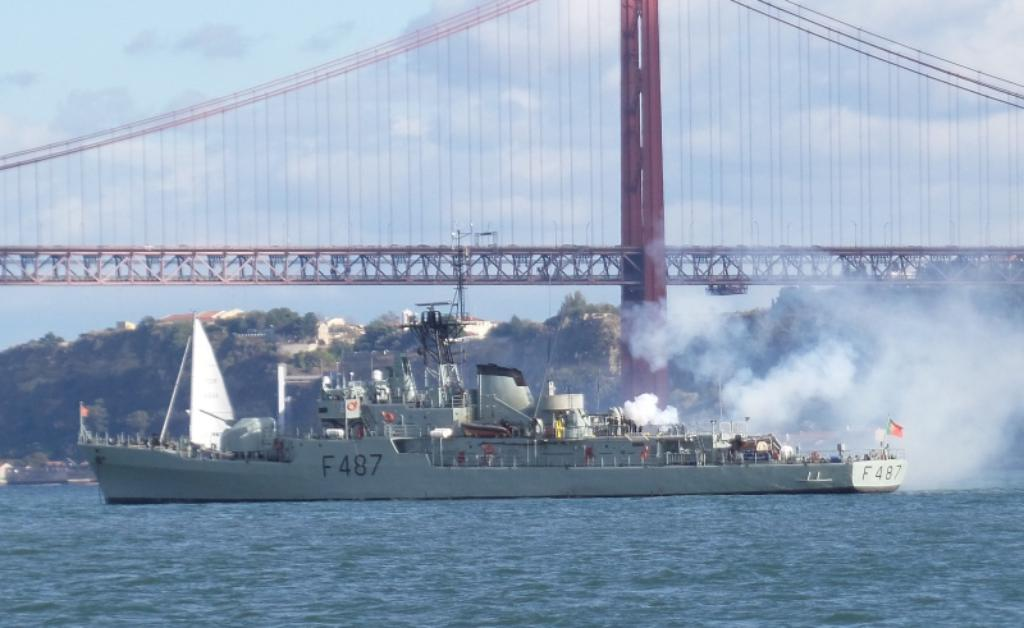Warship: (77, 223, 907, 503)
